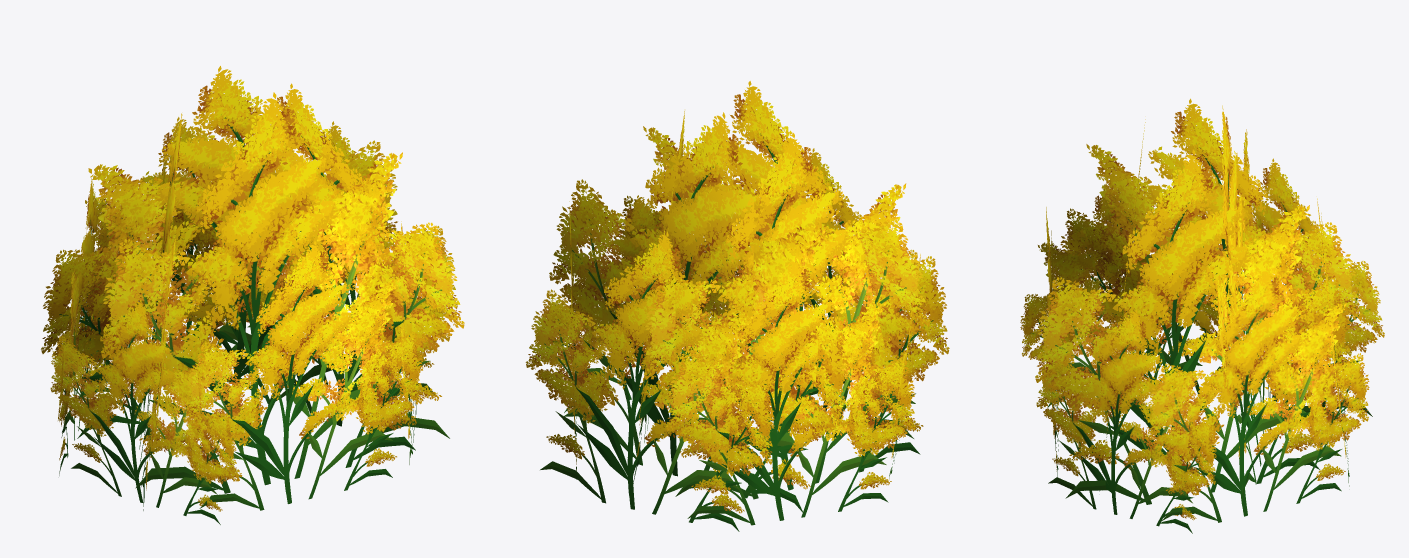
File: SM_Goldenrod.fbx
The picture shows the model from 3 angles, left to right: view 1: azimuth 30°, elevation 25°; view 2: azimuth 150°, elevation 25°; view 3: azimuth 270°, elevation 25°; orthographic projection. The views are drawn at different scales.
Visible parts, largest first — view 1: SM_Goldenrod; view 2: SM_Goldenrod; view 3: SM_Goldenrod.
Part boxes in pixels (<box>): SM_Goldenrod: <box>41,66,464,524</box>; SM_Goldenrod: <box>525,81,949,531</box>; SM_Goldenrod: <box>1020,98,1384,533</box>.
Bounding box in the file's own units: 124 × 114 × 113.
